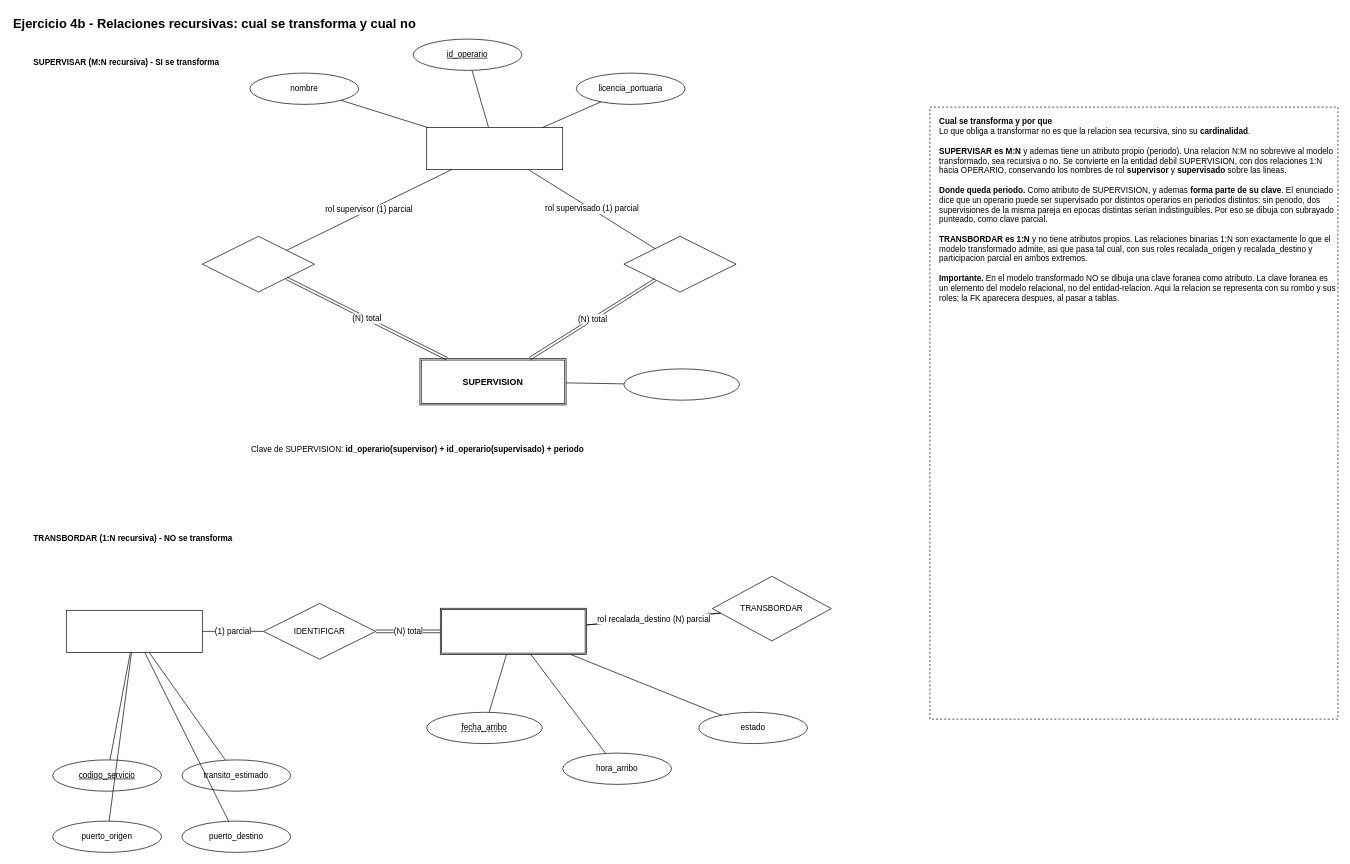
This 1350x864 diagram has some shape labels left out. The centre of each missing label's shape, as x and y in pixels:
"OPERARIO" goes at [494,148].
"periodo" goes at [681,384].
"RECALADA" goes at [513,631].
"SER_SUPERVISADO" goes at [679,264].
"SERVICIO" goes at [134,631].
"SUPERVISAR" goes at [258,264].
